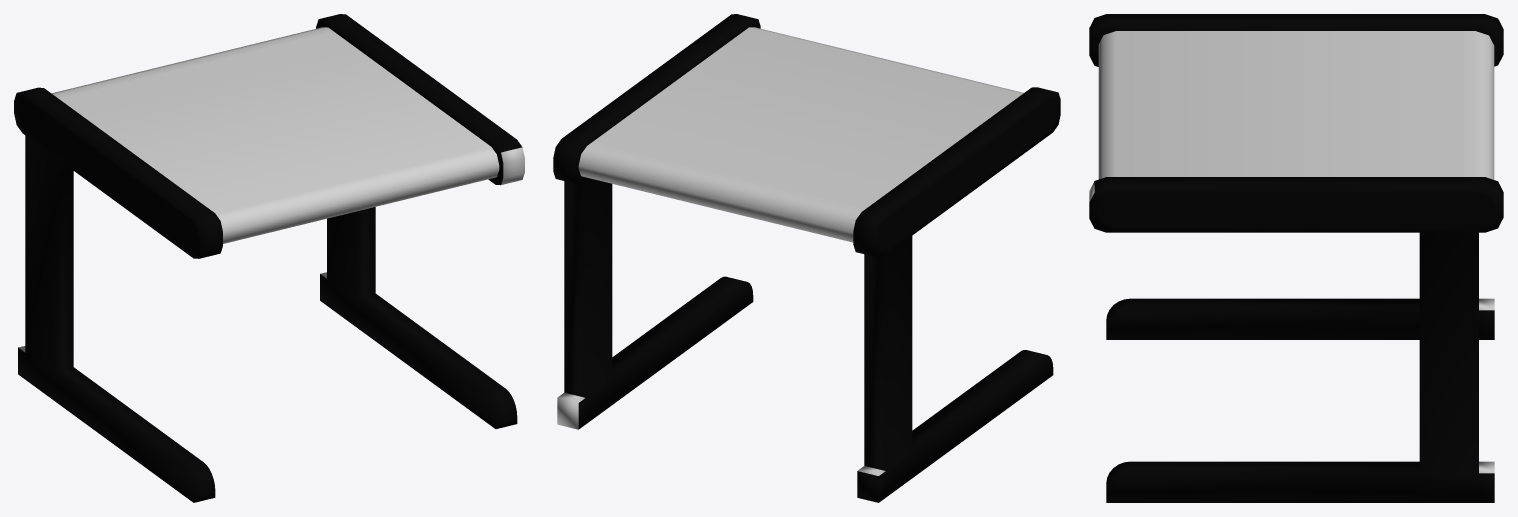
Rendered from Mesa-Pequena.glb.
3 views of the same model, side by side, from view 1: azimuth 30°, elevation 25°; view 2: azimuth 150°, elevation 25°; view 3: azimuth 270°, elevation 25° (orthographic). The views are drawn at different scales.
Parts seen in each view (by area): view 1: Cube.010, Cube.001; view 2: Cube.010, Cube.001; view 3: Cube.001, Cube.010.
Boxes of the visible parts, x1,y1,x2,y2 form: Cube.010: (18,27,524,352); Cube.001: (14,14,522,502); Cube.010: (557,27,1023,475); Cube.001: (553,14,1060,502); Cube.001: (1089,14,1503,502); Cube.010: (1089,31,1494,473).
Bounding box in the file's own units: 1.11 × 0.9354 × 1.12.
Materials: 2 (1 with a texture image).
